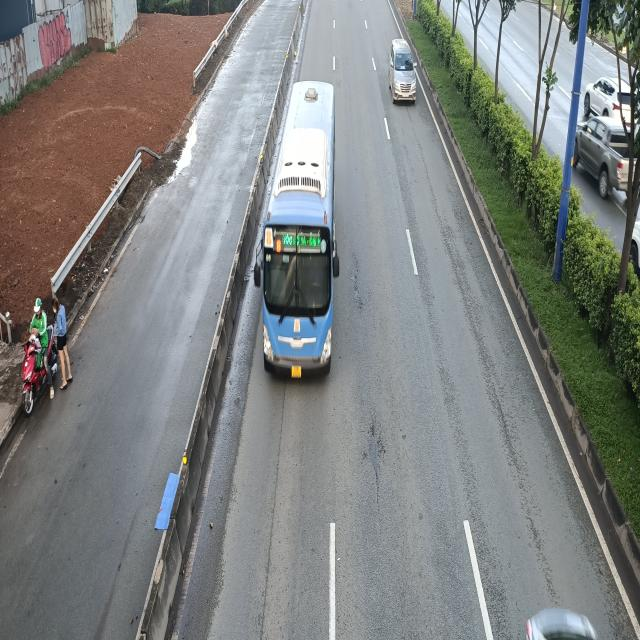car: (388, 39, 417, 103)
coach: (253, 78, 338, 382)
